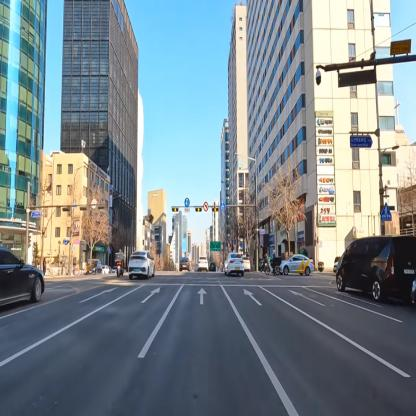Yellow: (172, 206, 179, 212), (196, 206, 202, 212), (212, 207, 218, 212)
